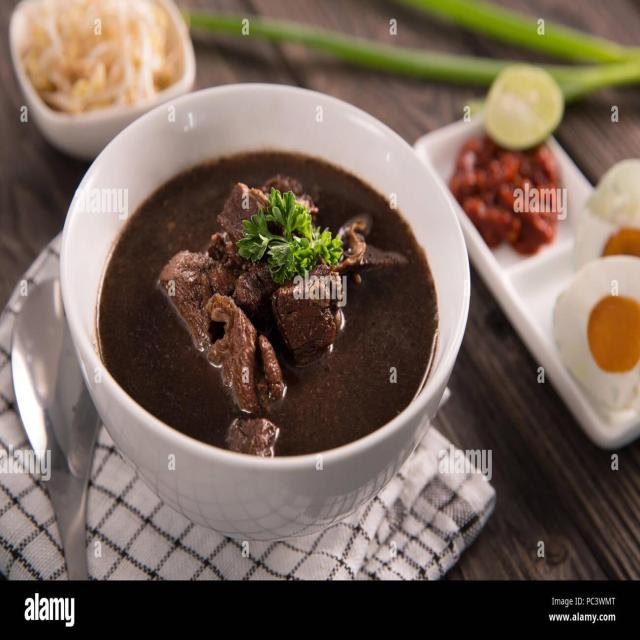Rawon: (97, 134, 433, 460)
